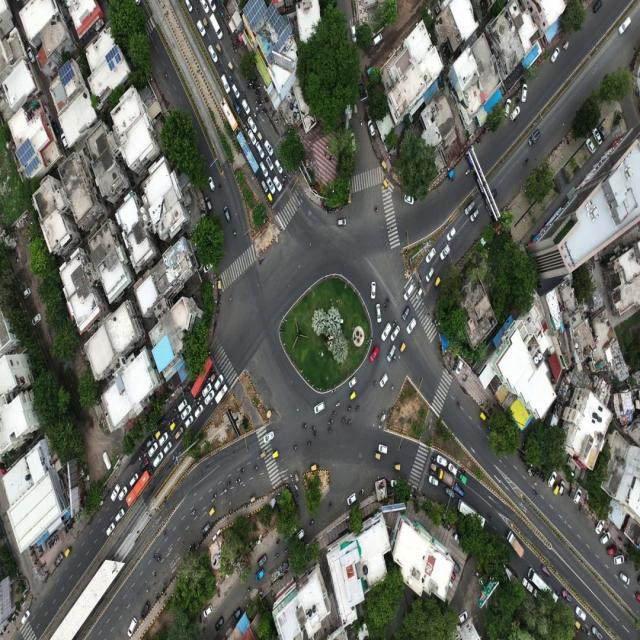3W: (265, 188, 275, 207), (391, 459, 403, 474), (256, 126, 265, 145), (478, 408, 488, 425), (201, 13, 210, 31), (447, 165, 456, 183), (64, 543, 74, 559), (207, 502, 217, 518), (426, 459, 437, 473), (293, 468, 302, 485), (226, 59, 236, 74), (551, 482, 560, 498), (397, 340, 408, 353), (258, 448, 268, 462), (434, 275, 443, 290), (308, 462, 320, 473), (371, 451, 382, 463), (168, 420, 178, 433), (270, 449, 280, 462), (215, 40, 223, 56), (155, 427, 164, 441), (382, 176, 389, 194), (381, 155, 388, 173), (216, 277, 224, 292), (569, 484, 576, 501), (352, 101, 359, 117), (348, 391, 358, 402), (249, 494, 258, 506), (572, 620, 581, 630), (210, 373, 217, 384)
Bus: (124, 463, 156, 512), (188, 351, 217, 402), (235, 128, 262, 179), (527, 567, 560, 605), (456, 492, 487, 532), (219, 95, 241, 137)
Cars: (617, 16, 632, 38), (126, 613, 139, 638), (138, 598, 152, 621), (527, 127, 543, 147), (591, 125, 604, 147), (590, 621, 605, 640), (254, 137, 266, 160), (265, 175, 277, 198), (445, 224, 458, 245), (424, 246, 438, 265), (510, 104, 522, 126), (367, 343, 380, 363), (584, 136, 597, 156), (540, 559, 553, 579), (222, 202, 233, 225), (313, 399, 327, 417), (380, 322, 392, 343), (20, 608, 33, 627), (199, 519, 212, 538), (599, 527, 612, 546), (575, 604, 588, 623), (561, 586, 574, 605), (403, 282, 414, 304), (406, 316, 418, 336), (598, 123, 610, 143), (594, 516, 606, 536), (454, 479, 466, 499), (52, 551, 65, 569), (113, 507, 126, 525), (464, 199, 477, 217), (618, 571, 631, 589), (366, 118, 377, 139), (153, 450, 165, 469), (213, 373, 225, 392), (389, 325, 401, 344), (448, 459, 460, 478), (374, 300, 383, 325), (208, 44, 219, 64), (221, 73, 231, 95), (348, 132, 358, 154), (386, 344, 397, 364), (203, 601, 215, 619), (371, 32, 383, 50), (265, 152, 275, 173), (436, 453, 450, 468), (427, 473, 441, 488), (215, 615, 226, 634), (231, 603, 242, 622), (272, 175, 283, 194), (173, 427, 186, 443), (262, 429, 275, 445), (254, 568, 267, 584), (294, 528, 307, 544), (439, 246, 452, 262), (159, 428, 168, 451), (503, 96, 512, 119), (117, 485, 129, 502), (204, 389, 216, 406), (444, 484, 456, 501), (241, 96, 251, 116), (247, 127, 257, 147), (264, 137, 274, 157), (550, 45, 560, 65), (547, 468, 557, 488), (573, 484, 582, 506), (182, 415, 195, 430), (591, 0, 604, 15), (613, 554, 626, 569), (606, 542, 618, 558), (106, 519, 116, 538), (197, 19, 207, 38), (274, 157, 284, 176), (347, 490, 358, 507), (379, 371, 390, 388), (369, 278, 377, 301), (358, 77, 366, 100), (255, 554, 269, 567), (149, 441, 159, 459), (180, 404, 192, 419), (233, 98, 242, 118), (248, 115, 258, 133), (260, 159, 269, 179), (425, 266, 435, 284), (558, 476, 567, 496), (377, 440, 389, 455), (147, 433, 158, 449), (205, 192, 213, 214), (230, 84, 241, 100), (401, 305, 411, 322), (335, 216, 348, 229), (128, 473, 140, 487), (192, 405, 204, 419), (350, 23, 358, 44), (139, 458, 150, 473), (469, 208, 480, 223), (520, 83, 528, 103), (402, 193, 415, 205), (163, 442, 174, 456), (208, 172, 215, 194), (208, 0, 219, 14), (260, 178, 269, 195), (202, 382, 212, 397), (489, 188, 499, 202), (185, 0, 194, 15), (200, 0, 209, 15), (416, 287, 424, 300)
LCV: (208, 12, 225, 43), (214, 384, 230, 407), (109, 482, 121, 504), (521, 577, 534, 596), (457, 470, 469, 489), (176, 395, 188, 413)
M2W: (358, 483, 366, 499), (523, 156, 532, 166), (389, 382, 396, 394), (391, 353, 398, 365), (273, 537, 282, 546), (307, 519, 315, 529), (334, 399, 342, 409), (455, 398, 461, 411), (355, 401, 361, 414), (487, 510, 494, 521), (382, 300, 388, 312), (372, 378, 378, 390), (340, 416, 348, 425), (330, 409, 338, 418), (221, 485, 228, 495), (372, 204, 379, 214), (428, 466, 435, 476), (331, 387, 338, 397), (326, 425, 333, 435), (358, 115, 363, 128), (187, 544, 193, 554), (152, 551, 158, 561), (273, 552, 279, 562), (241, 90, 247, 100), (624, 553, 629, 565), (581, 624, 587, 634), (555, 589, 561, 599), (346, 406, 353, 414), (253, 110, 258, 121), (212, 491, 218, 500), (190, 508, 196, 517), (156, 555, 162, 564), (283, 547, 289, 556), (195, 6, 201, 15), (228, 74, 234, 83), (242, 111, 248, 120), (532, 488, 538, 497), (617, 535, 623, 544), (585, 629, 591, 638), (431, 454, 437, 463), (328, 500, 333, 510), (218, 182, 223, 192), (392, 319, 397, 329), (225, 480, 232, 487), (292, 445, 299, 452), (309, 425, 316, 432), (30, 550, 36, 558), (209, 368, 215, 376), (239, 466, 245, 474), (201, 627, 207, 635), (246, 586, 252, 594), (294, 484, 300, 492), (274, 117, 280, 125), (618, 547, 624, 555), (461, 466, 467, 474), (326, 419, 334, 425), (34, 557, 39, 566), (304, 441, 313, 446), (246, 83, 251, 92), (246, 120, 251, 129), (281, 181, 286, 190), (439, 480, 444, 489), (579, 502, 583, 513), (140, 446, 146, 453), (143, 451, 149, 458), (161, 418, 167, 425), (236, 478, 242, 485), (302, 422, 308, 429), (465, 169, 471, 176), (347, 419, 353, 426), (253, 465, 258, 473), (163, 529, 168, 537), (233, 228, 237, 238), (164, 70, 168, 80), (244, 124, 248, 134), (386, 297, 391, 305), (39, 553, 45, 559), (41, 562, 47, 568), (50, 539, 54, 548), (168, 418, 172, 427), (172, 407, 178, 413), (175, 413, 181, 419), (156, 592, 160, 601), (162, 588, 166, 597), (249, 80, 255, 86), (250, 82, 256, 88), (258, 100, 264, 106), (387, 227, 393, 233), (479, 136, 483, 145), (519, 452, 523, 461), (622, 543, 628, 549), (163, 426, 168, 433), (206, 376, 211, 383), (313, 431, 318, 438), (253, 87, 258, 94), (257, 83, 262, 90), (48, 542, 52, 550), (65, 527, 69, 535), (139, 454, 143, 462), (295, 491, 299, 499), (232, 41, 236, 49), (256, 106, 260, 114), (476, 138, 480, 146), (70, 519, 75, 525), (187, 385, 193, 390), (198, 396, 203, 402), (195, 401, 200, 407), (290, 473, 293, 483), (435, 319, 438, 329), (491, 407, 494, 417), (487, 425, 492, 431), (523, 454, 526, 464), (540, 472, 543, 482), (69, 523, 73, 530), (268, 106, 272, 113), (284, 175, 288, 182), (282, 176, 286, 183), (536, 470, 540, 477), (53, 537, 56, 546), (56, 534, 59, 543), (264, 107, 267, 116), (530, 462, 533, 471), (171, 417, 176, 422), (193, 398, 198, 403), (67, 523, 70, 531), (255, 94, 261, 98), (261, 108, 265, 114), (271, 111, 275, 117), (488, 406, 491, 414), (522, 454, 525, 462), (532, 472, 536, 478), (255, 99, 258, 106), (516, 92, 519, 99), (185, 391, 190, 395), (233, 50, 238, 54), (264, 96, 268, 101), (265, 99, 269, 104), (516, 100, 520, 105), (252, 86, 256, 90), (543, 476, 545, 484), (155, 571, 157, 576)
Truck: (504, 523, 527, 561), (438, 468, 457, 491)
